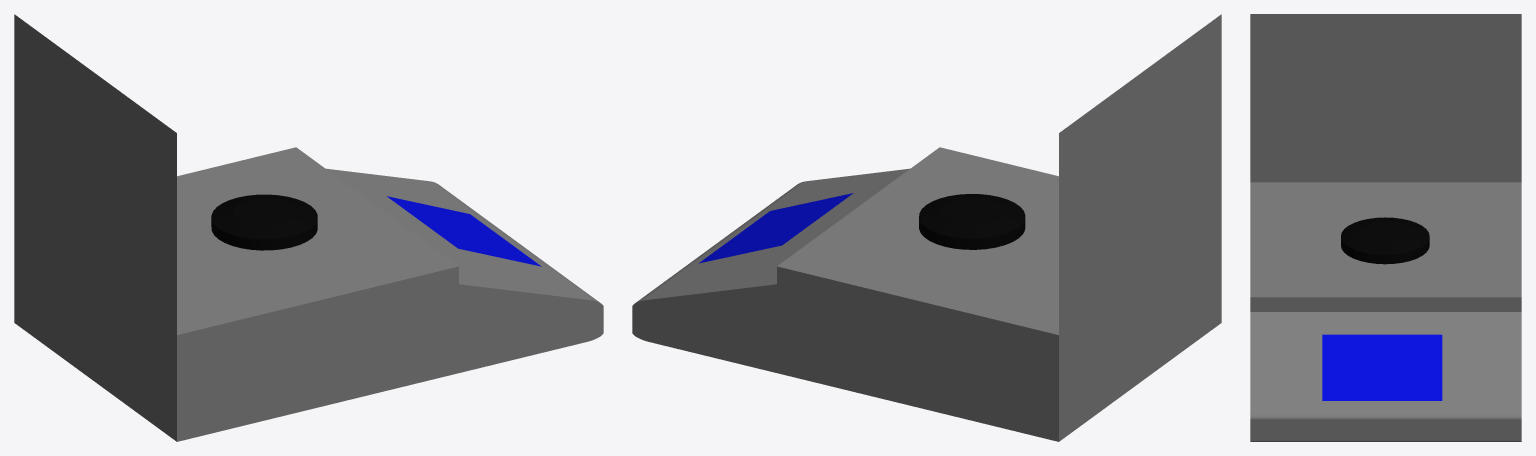
Rendered from weighing_machine.fbx.
3 views of the same model, side by side, from view 1: azimuth 30°, elevation 25°; view 2: azimuth 150°, elevation 25°; view 3: azimuth 270°, elevation 25° (orthographic). The views are drawn at different scales.
Visible parts, largest first — view 1: Cube.001, Cylinder, Plane; view 2: Cube.001, Cylinder, Plane; view 3: Cube.001, Plane, Cylinder.
Part boxes in pixels (box(x1,y1,x2,y2)): Cube.001: box(14, 14, 603, 441); Cylinder: box(211, 194, 317, 250); Plane: box(387, 196, 541, 266); Cube.001: box(632, 14, 1221, 441); Cylinder: box(919, 194, 1025, 249); Plane: box(699, 193, 853, 263); Cube.001: box(1250, 14, 1521, 441); Plane: box(1322, 334, 1442, 400); Cylinder: box(1341, 217, 1429, 264).
Size of the model in its own units: 303 by 209 by 200.
